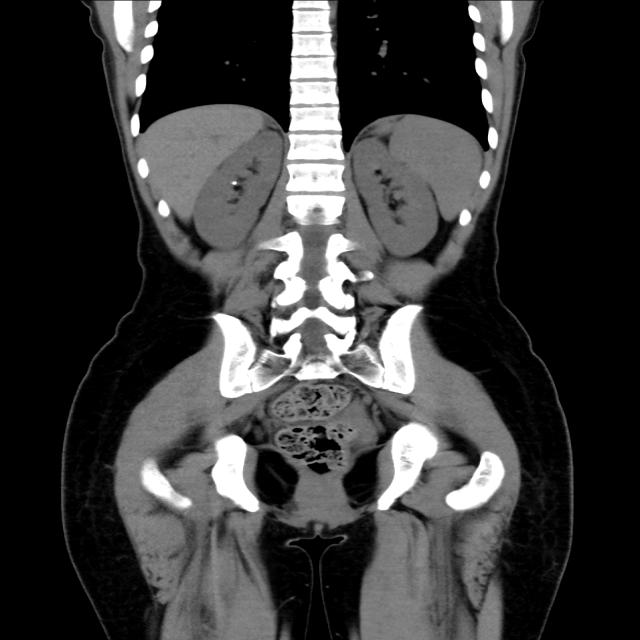kidneystone: (233, 180, 235, 183)
